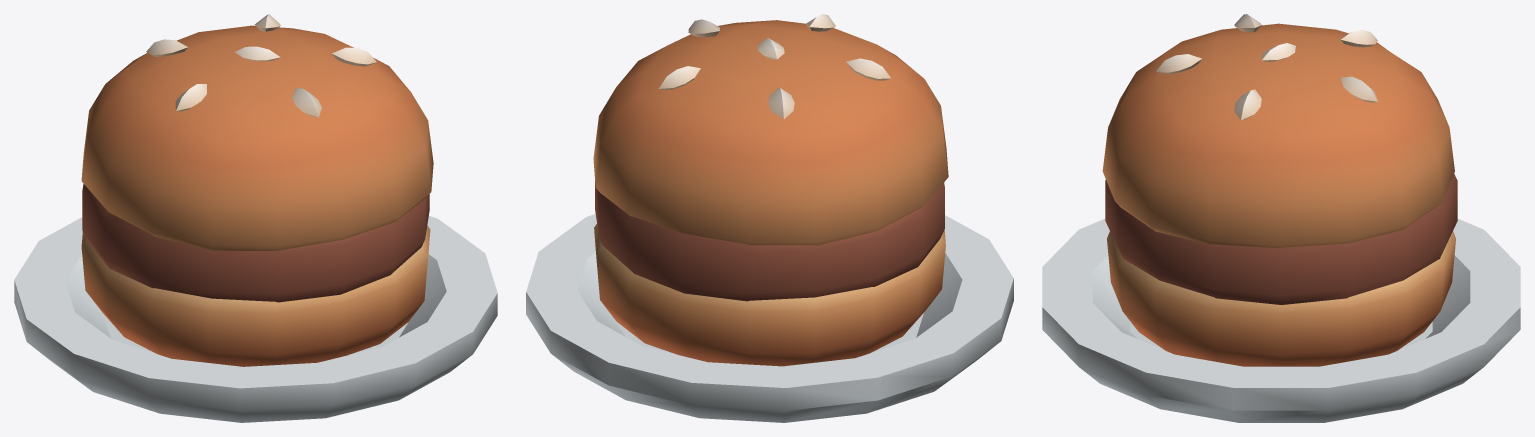
Rendered from plate_bun_burger.glb.
3 views of the same model, side by side, from view 1: azimuth 30°, elevation 25°; view 2: azimuth 150°, elevation 25°; view 3: azimuth 270°, elevation 25° (orthographic).
Parts seen in each view (by area): view 1: plate; view 2: plate; view 3: plate.
Boxes of the visible parts, x1,y1,x2,y2 form: plate: (14, 14, 497, 422); plate: (526, 14, 1013, 422); plate: (1042, 14, 1520, 422).
Size of the model in its own units: 0.95 by 0.6306 by 0.95.
4 materials, 4 textured.
